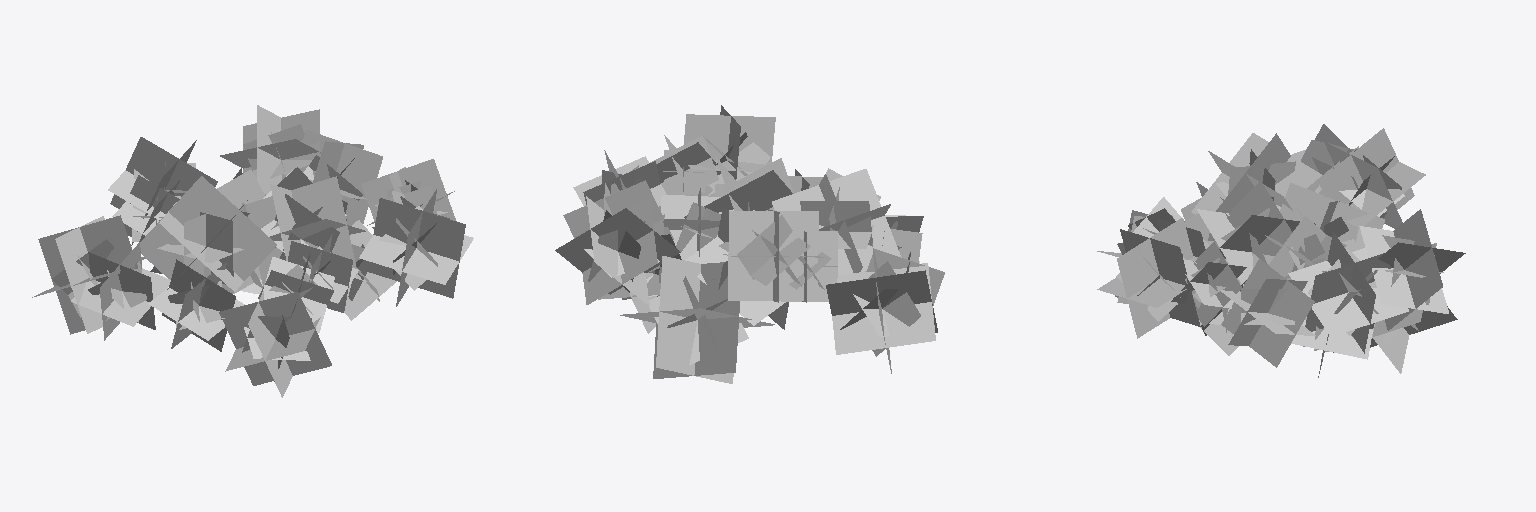
The model's file is baobableaves.obj.
3 views of the same model, side by side, from view 1: azimuth 30°, elevation 25°; view 2: azimuth 150°, elevation 25°; view 3: azimuth 270°, elevation 25° (orthographic).
Size of the model in its own units: 16.83 by 7.94 by 13.77.